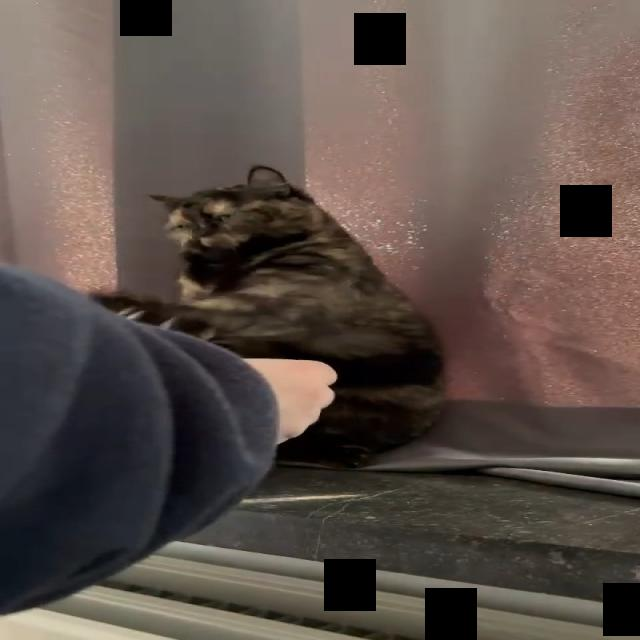authorized: (91, 164, 448, 469)
